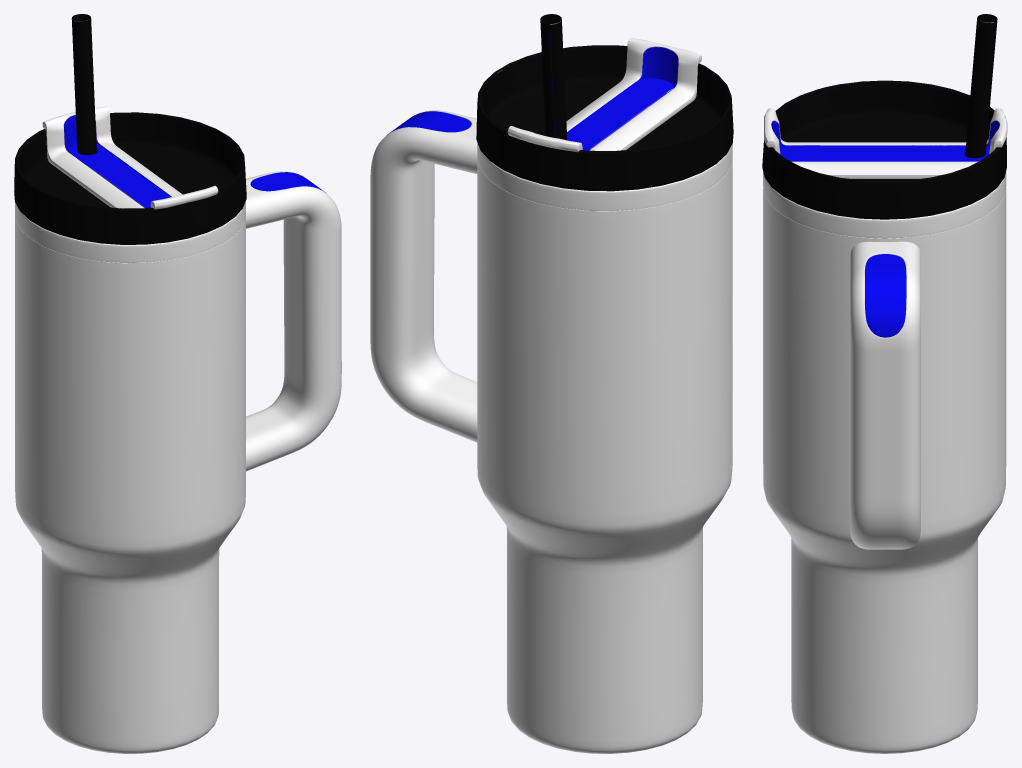
Rendered from final_stanleyy.glb.
3 views of the same model, side by side, from view 1: azimuth 30°, elevation 25°; view 2: azimuth 150°, elevation 25°; view 3: azimuth 270°, elevation 25° (orthographic). The views are drawn at different scales.
Parts seen in each view (by area): view 1: model_1, model_0; view 2: model_1, model_0; view 3: model_1, model_0.
Part boxes in pixels (x1,y1,x2,y2): model_1: (15, 171, 341, 753); model_0: (14, 14, 246, 244); model_1: (370, 110, 732, 753); model_0: (476, 14, 733, 191); model_1: (763, 171, 1006, 753); model_0: (762, 14, 1007, 219).
Bounding box in the file's own units: 14.83 × 31.25 × 9.92.
3 materials, 2 textured.
